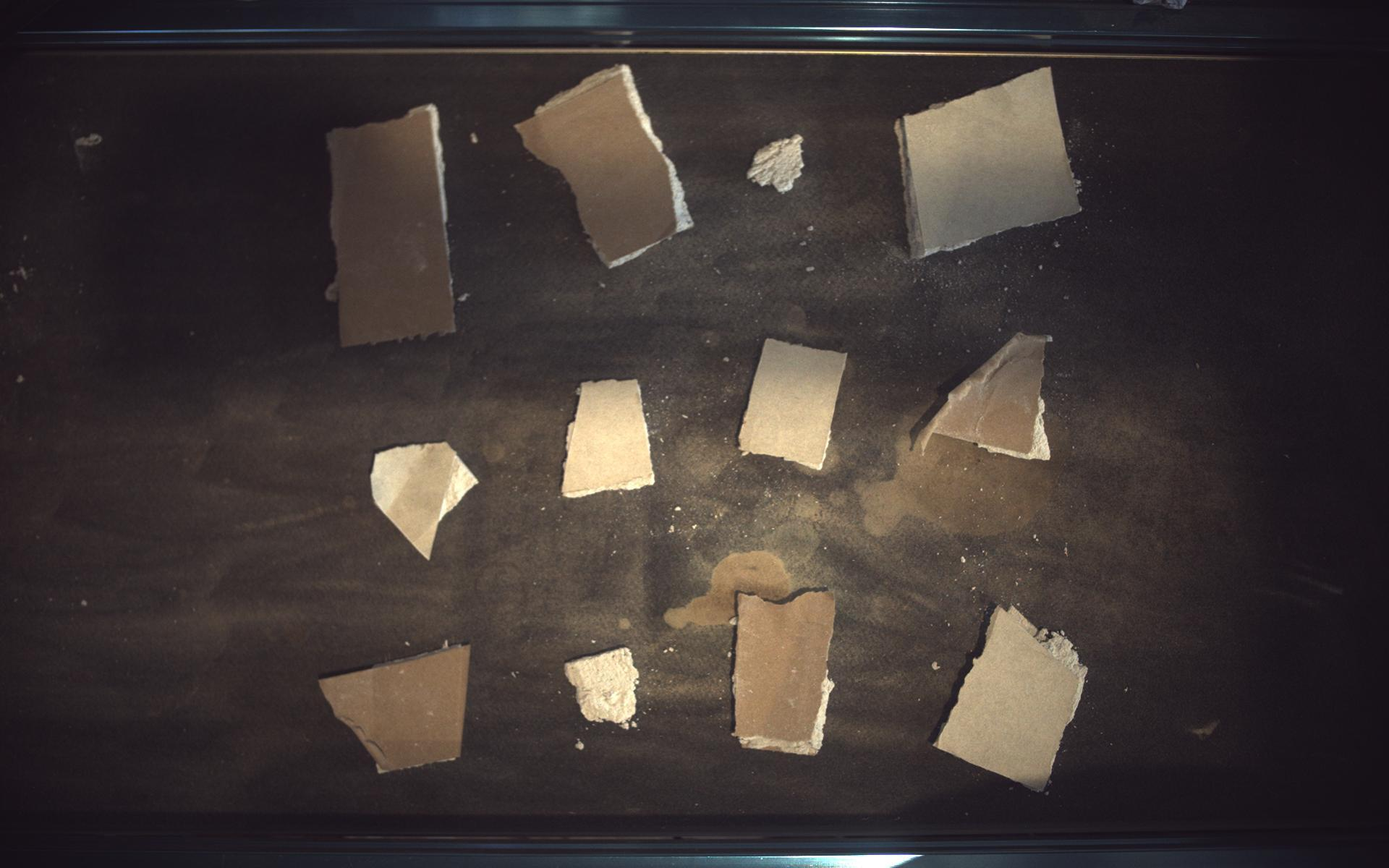gypsum_board: (515, 64, 694, 267), (896, 67, 1084, 258), (326, 103, 455, 346), (937, 607, 1090, 793), (319, 646, 470, 775), (916, 333, 1054, 461), (734, 592, 837, 756), (742, 339, 849, 469), (370, 442, 477, 560), (562, 380, 655, 498), (565, 649, 640, 726), (747, 134, 806, 192)
